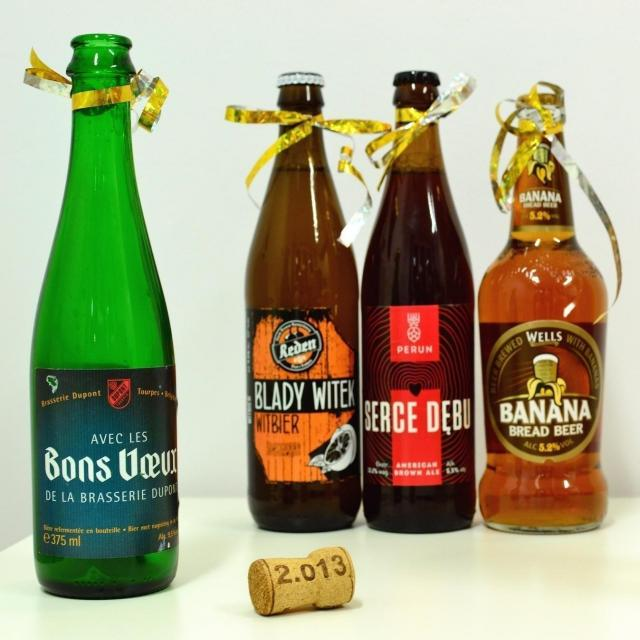bottle-glass: (26, 30, 181, 607), (476, 82, 613, 540), (359, 66, 477, 536), (243, 68, 361, 536)
